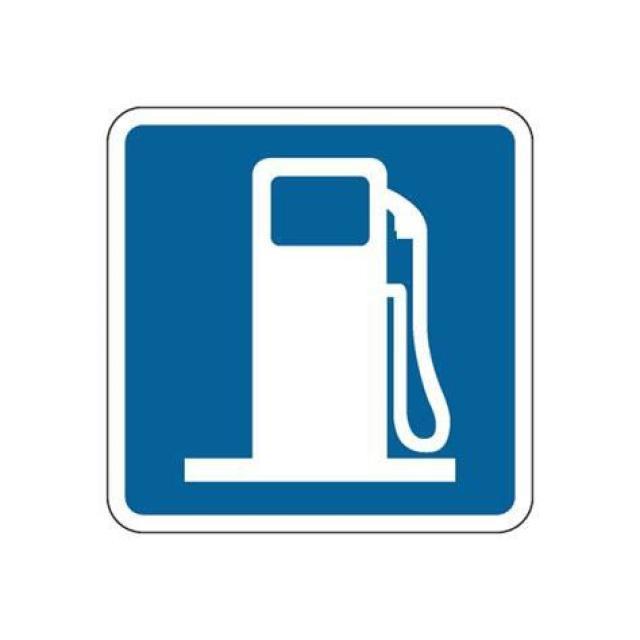petrol pump ahead: (131, 136, 510, 511)
